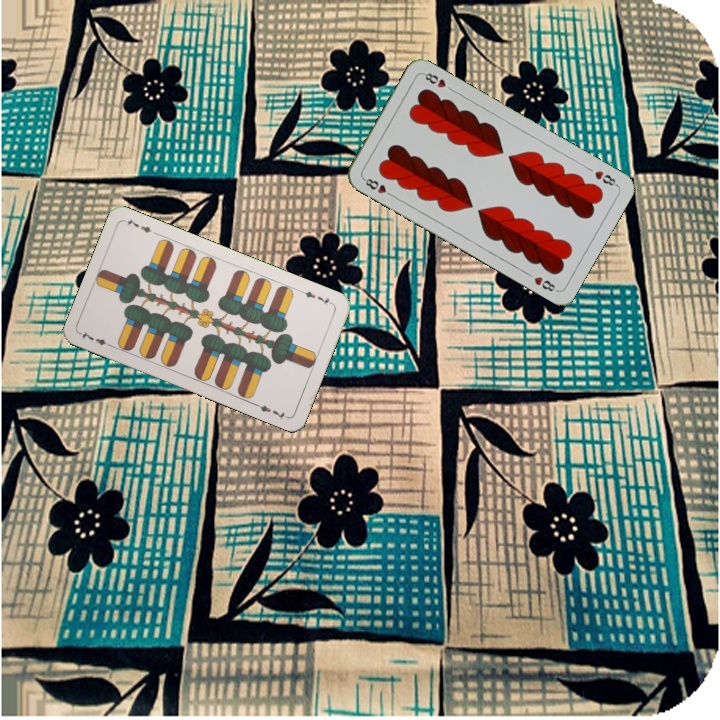E7: (76, 327, 115, 350), (297, 286, 336, 307)
H8: (359, 174, 397, 199), (590, 166, 620, 189)
